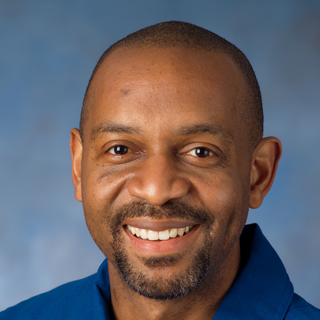eye: (171, 138, 228, 172), (93, 138, 149, 167)
